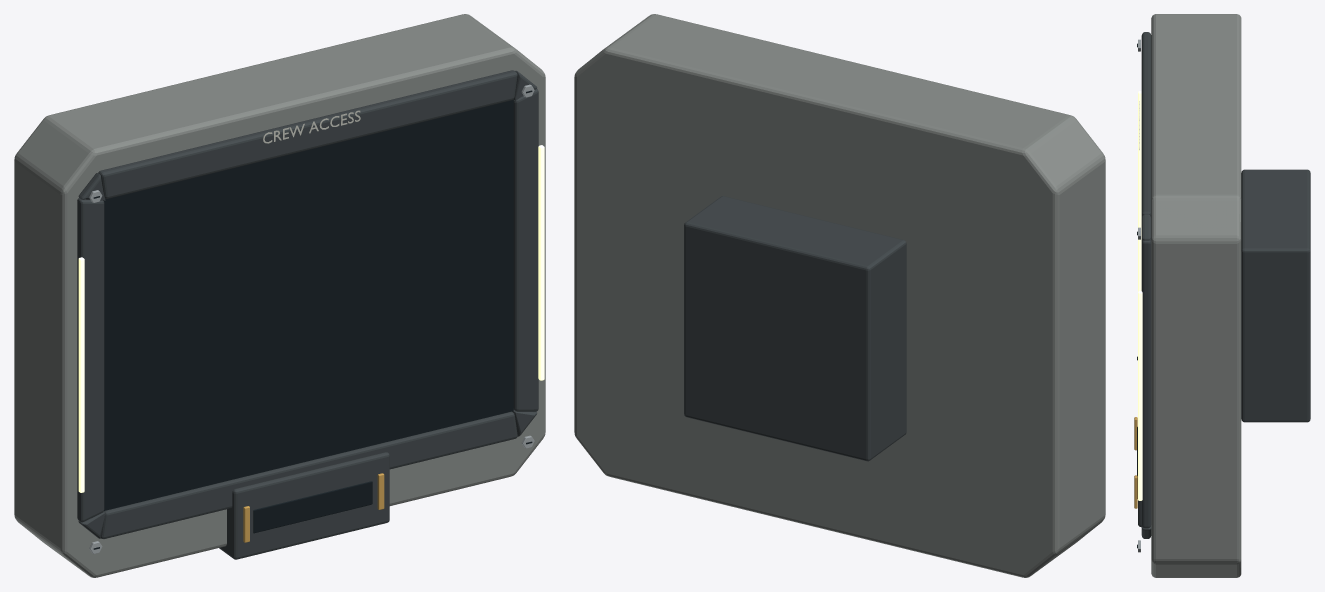
File: cruz-del-sur-crew-access.glb
3 views of the same model, side by side, from view 1: azimuth 30°, elevation 25°; view 2: azimuth 150°, elevation 25°; view 3: azimuth 270°, elevation 25° (orthographic). The views are drawn at different scales.
Visible parts, largest first — view 1: CREW_CDS_hardware_Rubber_seals.001, CREW_CDS_hardware_Warm_grey_alloy.001, CREW_CDS_hardware_Graphite.001, CREW_CDS_hardware_Amber_diffuser.001; view 2: CREW_CDS_hardware_Warm_grey_alloy.001, CREW_CDS_hardware_Graphite.001; view 3: CREW_CDS_hardware_Warm_grey_alloy.001, CREW_CDS_hardware_Graphite.001, CREW_CDS_hardware_Amber_diffuser.001, CREW_CDS_hardware_Safety_ochre.001.
Part boxes in pixels (x1,y1,x2,y2): CREW_CDS_hardware_Rubber_seals.001: (93, 90, 532, 549); CREW_CDS_hardware_Warm_grey_alloy.001: (14, 14, 545, 577); CREW_CDS_hardware_Graphite.001: (77, 70, 538, 559); CREW_CDS_hardware_Amber_diffuser.001: (78, 145, 544, 492); CREW_CDS_hardware_Warm_grey_alloy.001: (574, 14, 1105, 577); CREW_CDS_hardware_Graphite.001: (684, 196, 906, 461); CREW_CDS_hardware_Warm_grey_alloy.001: (1151, 14, 1241, 577); CREW_CDS_hardware_Graphite.001: (1138, 32, 1310, 538); CREW_CDS_hardware_Amber_diffuser.001: (1138, 91, 1142, 500); CREW_CDS_hardware_Safety_ochre.001: (1134, 417, 1137, 508).
Bounding box in the file's own units: 1.3 × 1.12 × 0.459.
